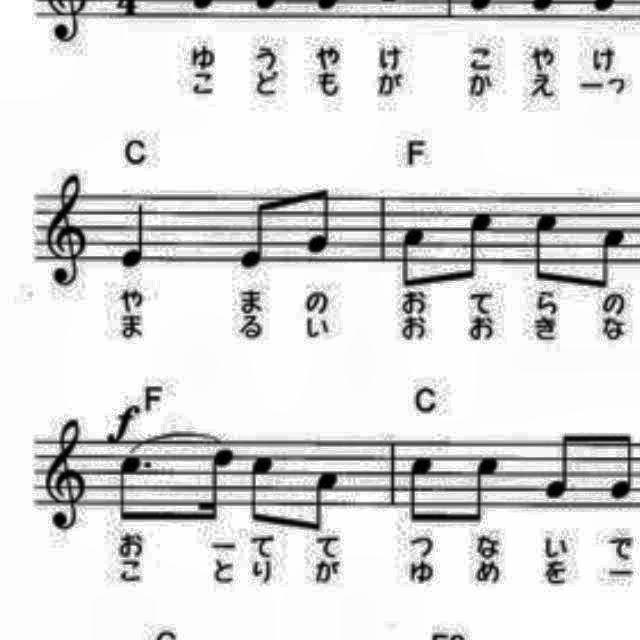Eighth-note: (234, 188, 284, 276), (538, 426, 586, 509), (457, 204, 503, 286), (296, 180, 340, 260), (467, 448, 507, 532), (114, 452, 158, 528), (528, 204, 568, 286), (305, 464, 349, 538), (404, 448, 444, 528), (590, 220, 632, 296), (603, 423, 640, 504), (247, 450, 283, 532), (396, 220, 436, 292), (639, 423, 640, 504)
Quarter-note: (110, 197, 160, 279)
Sixteenth-note: (188, 444, 238, 528)
Treble-clef: (36, 167, 96, 293), (38, 412, 94, 524)
